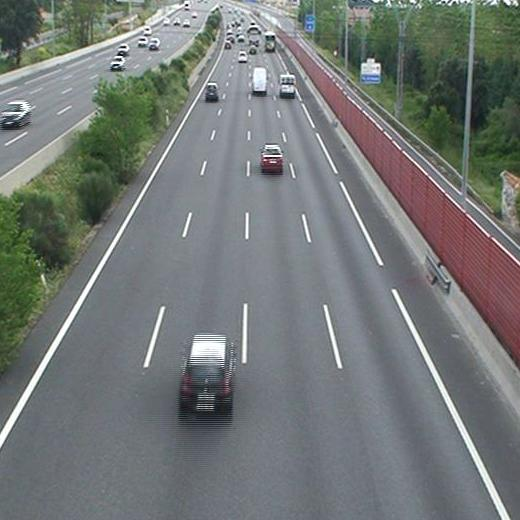bus: (266, 32, 276, 50)
car: (182, 336, 231, 409), (261, 145, 282, 171), (205, 83, 219, 99), (238, 52, 246, 61)
van: (253, 67, 267, 94), (279, 76, 296, 96)
